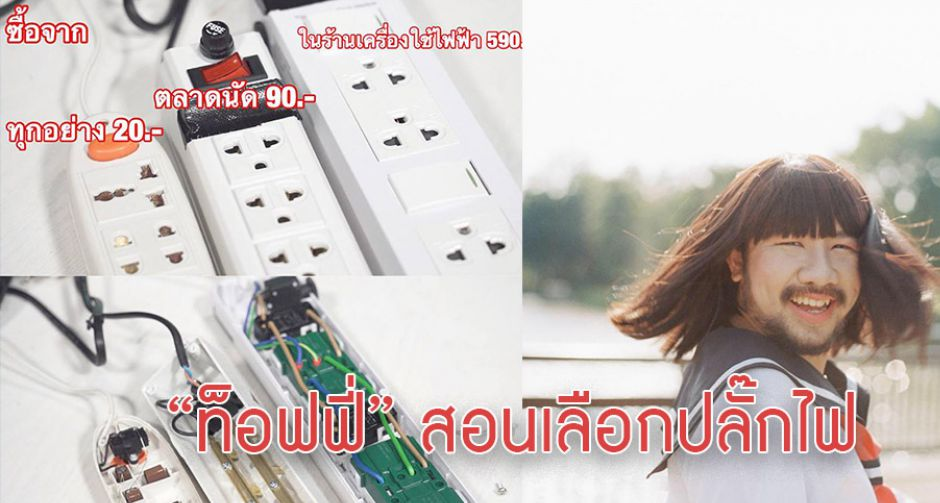Three_eye_plug: (261, 1, 525, 274), (151, 26, 377, 275), (58, 91, 222, 275)
